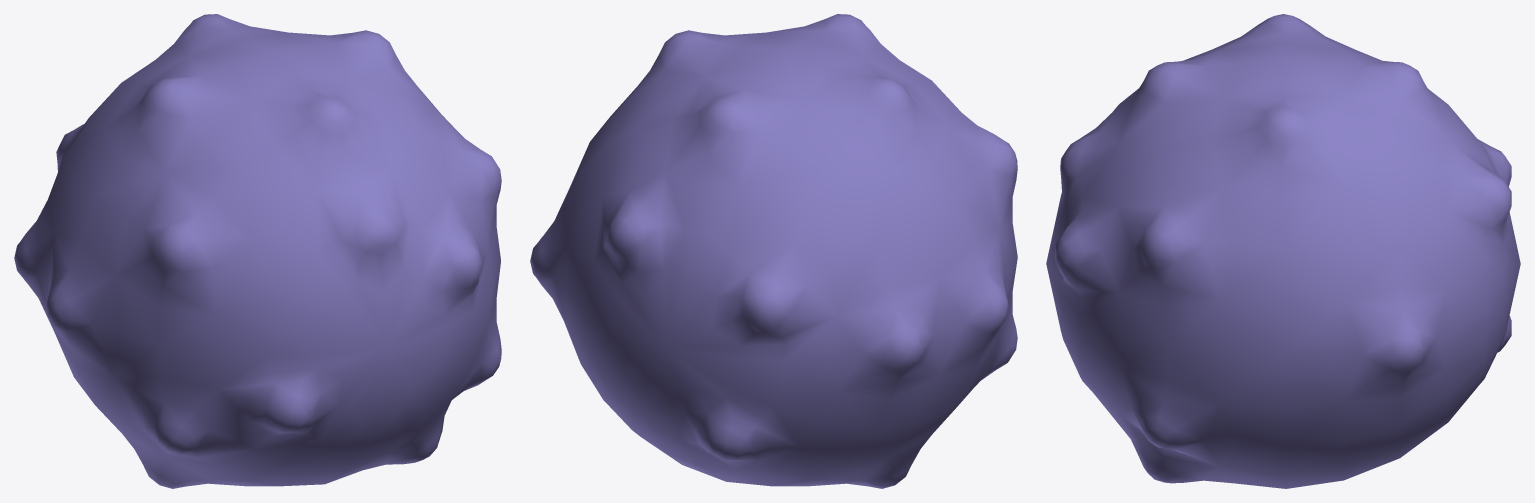
File: neutrophil.obj
3 views of the same model, side by side, from view 1: azimuth 30°, elevation 25°; view 2: azimuth 150°, elevation 25°; view 3: azimuth 270°, elevation 25° (orthographic).
Visible parts, largest first — view 1: Sphere005; view 2: Sphere005; view 3: Sphere005.
Boxes of the visible parts, <box> form: Sphere005: <box>14,14,501,488</box>; Sphere005: <box>530,14,1017,488</box>; Sphere005: <box>1046,14,1520,488</box>.
Bounding box in the file's own units: 11.95 × 11.4 × 11.89.
